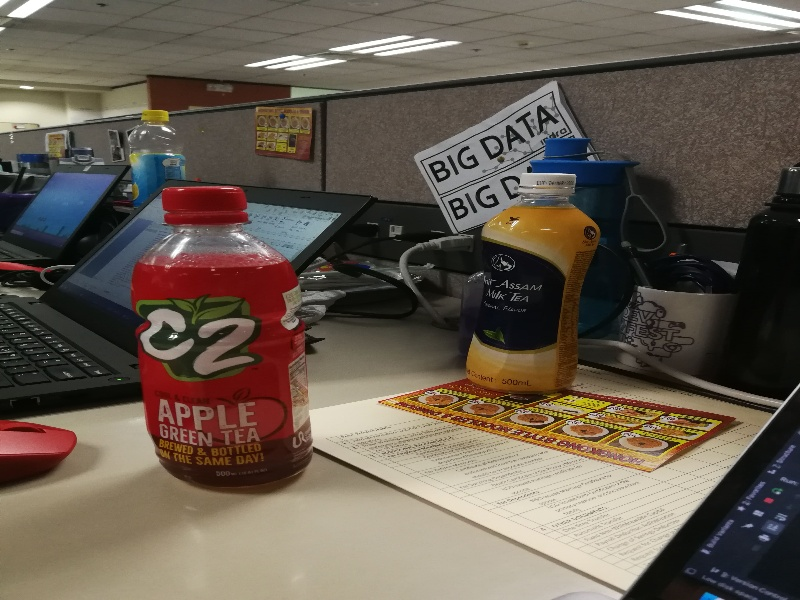PET #1: (127, 183, 320, 492), (463, 165, 585, 398), (125, 107, 184, 208)
